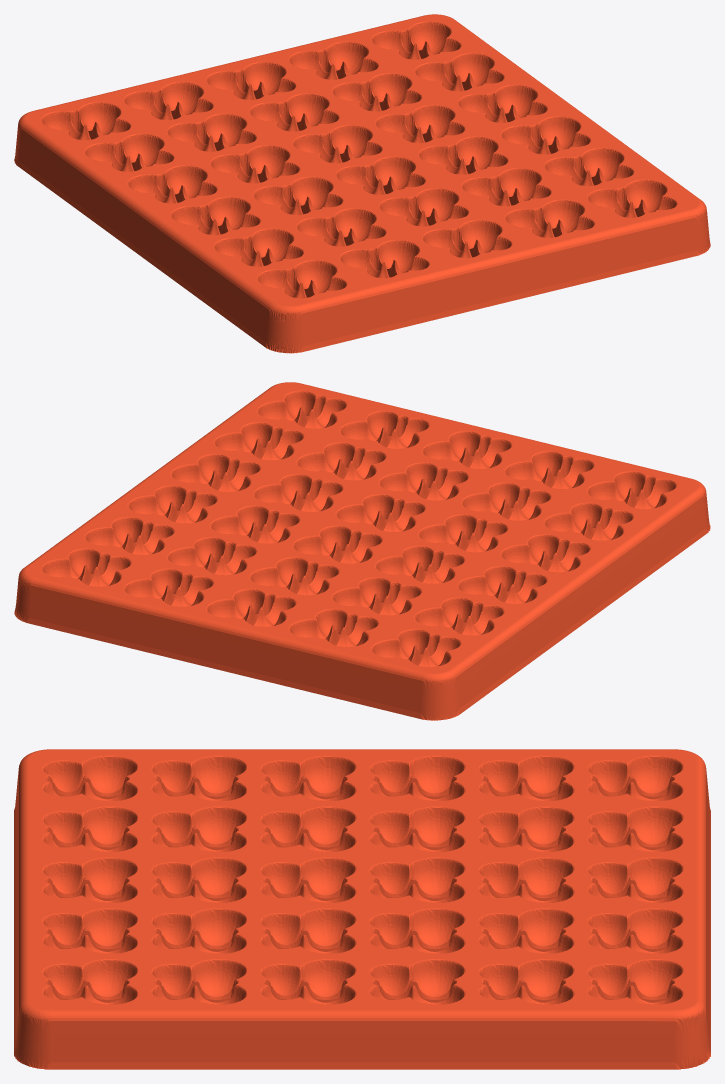
File: mold.glb
3 views of the same model, one above another, from view 1: azimuth 30°, elevation 25°; view 2: azimuth 150°, elevation 25°; view 3: azimuth 270°, elevation 25° (orthographic). The views are drawn at different scales.
Visible parts, largest first — view 1: geometry_0; view 2: geometry_0; view 3: geometry_0.
Boxes of the visible parts, x1,y1,x2,y2 form: geometry_0: (14,14,710,353); geometry_0: (14,382,710,720); geometry_0: (14,749,710,1069).
Bounding box in the file's own units: 0.1578 × 0.0144 × 0.1707.
